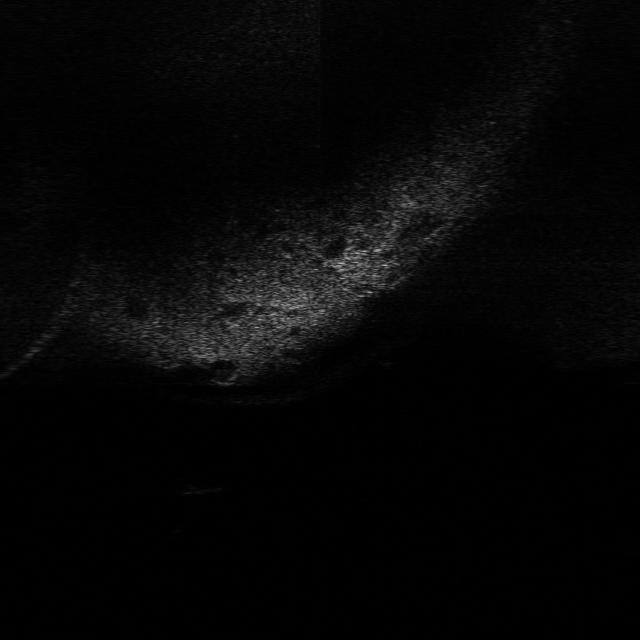ball: (362, 334, 402, 368)
cube: (164, 475, 228, 499)
